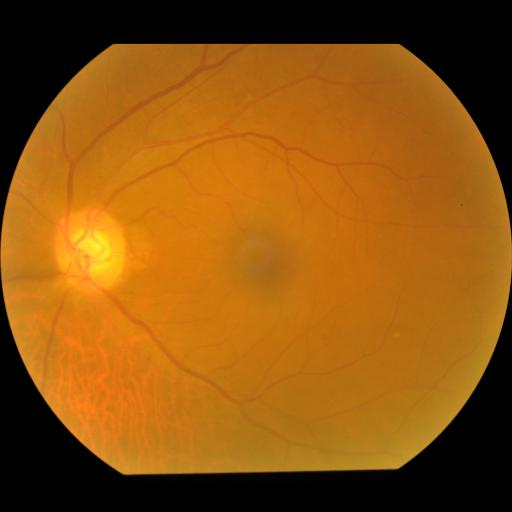Optic Cup: (71, 228, 112, 275)
Optic Disc: (51, 206, 125, 295)
